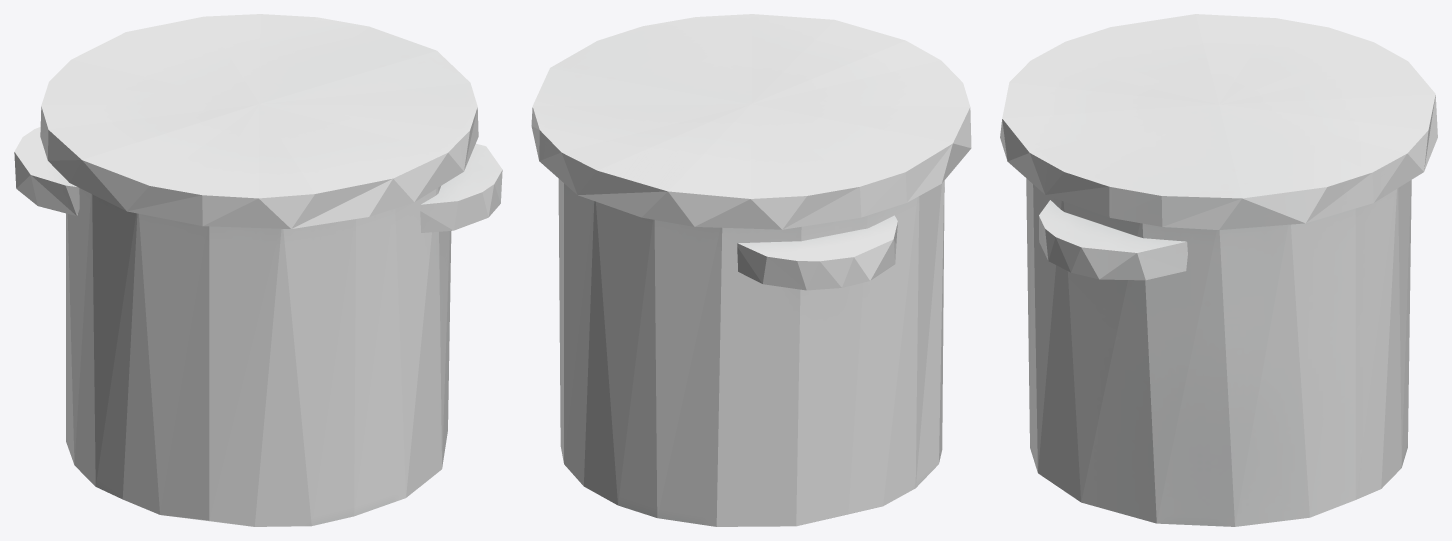
Rendered from jar2_1.dae.
3 renders of one model, left to right at view 1: azimuth 30°, elevation 25°; view 2: azimuth 150°, elevation 25°; view 3: azimuth 270°, elevation 25°, orthographic.
Visible parts, largest first — view 1: node; view 2: node; view 3: node.
Part boxes in pixels (x1,y1,x2,y2): node: [14, 14, 502, 526]; node: [531, 14, 971, 526]; node: [1000, 14, 1437, 526].
Size of the model in its own units: 0.2356 by 0.2052 by 0.2356.
Materials: 1 (1 with a texture image).
